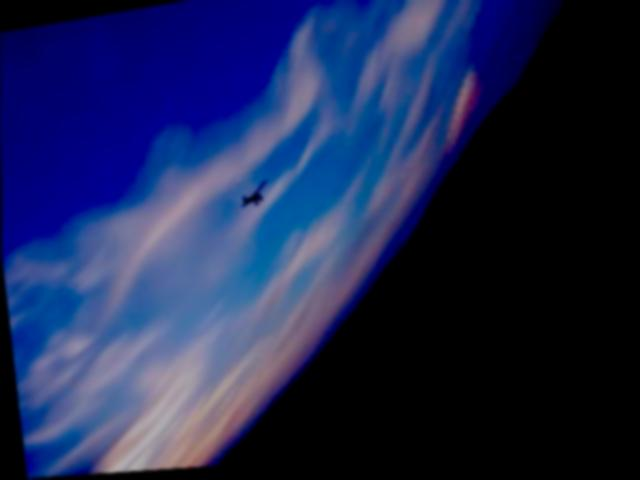uav: (235, 179, 271, 215)
